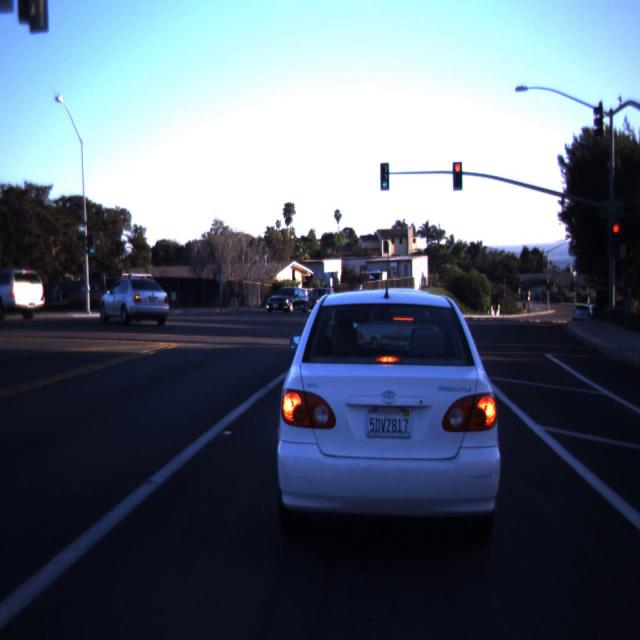kirmizi: (452, 162, 462, 191)
yesil: (380, 163, 389, 191)
